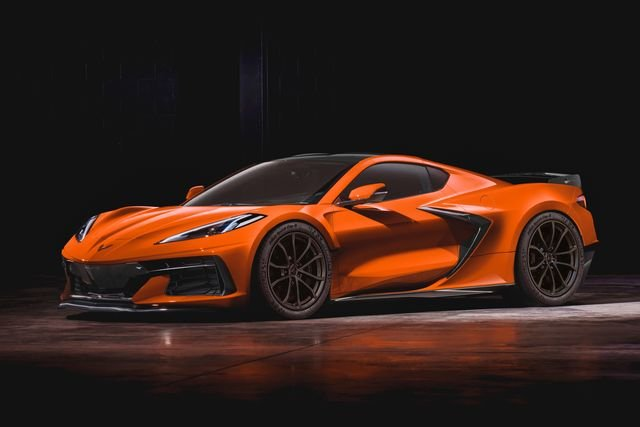mobil: (59, 145, 605, 322)
